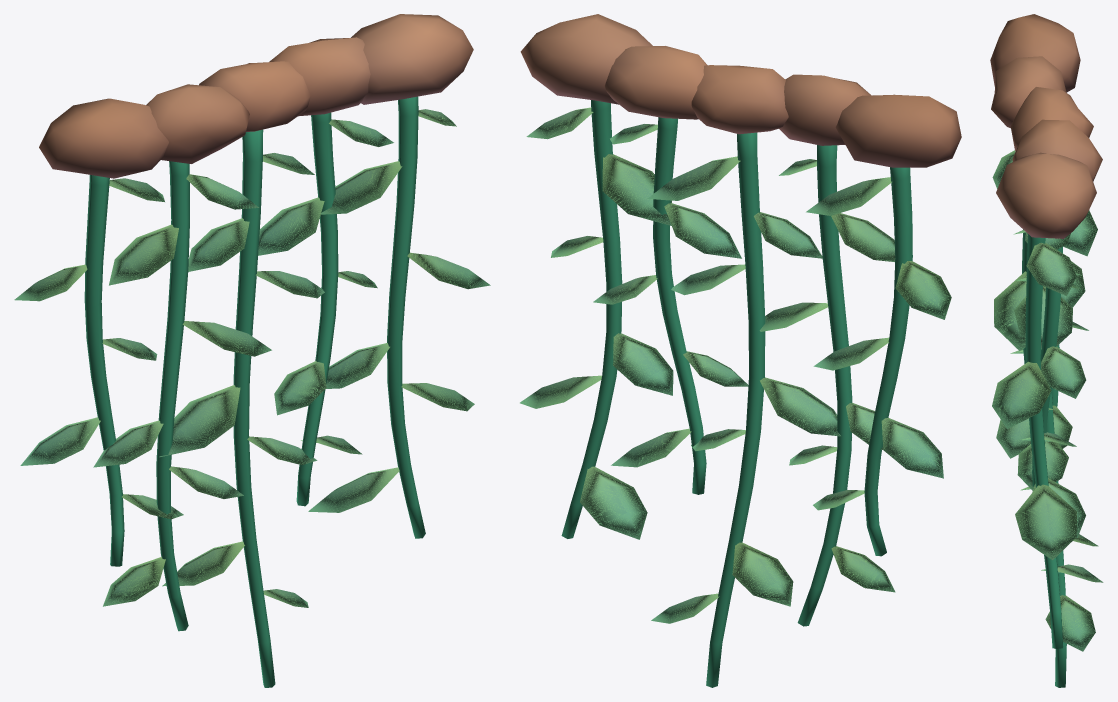
The model's file is verdant_hang_vines_a.glb.
3 renders of one model, left to right at view 1: azimuth 30°, elevation 25°; view 2: azimuth 150°, elevation 25°; view 3: azimuth 270°, elevation 25°, orthographic. The views are drawn at different scales.
Parts seen in each view (by area): view 1: verdant_hang_vines_a; view 2: verdant_hang_vines_a; view 3: verdant_hang_vines_a.
Part boxes in pixels (<box>): verdant_hang_vines_a: <box>14,14,490,687</box>; verdant_hang_vines_a: <box>520,14,961,687</box>; verdant_hang_vines_a: <box>990,14,1103,687</box>.
Bounding box in the file's own units: 2.41 × 3.31 × 0.5779.
